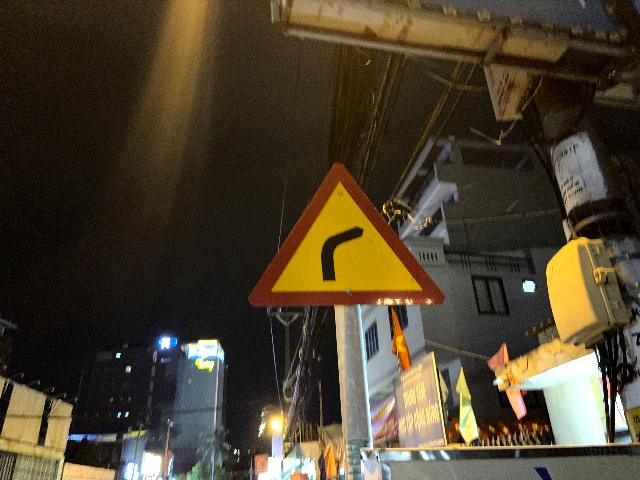cho-ngoat-nguy-hiem-ben-phai: (247, 162, 445, 308)
